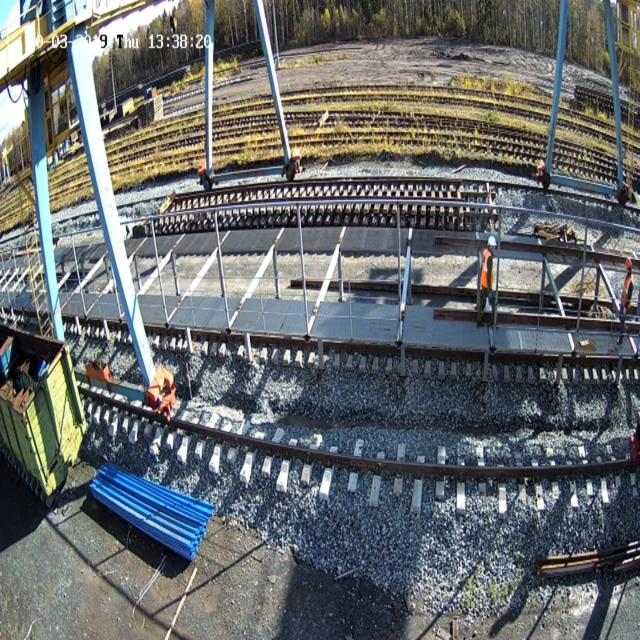Helmet: (487, 235, 497, 247), (625, 258, 632, 269)
Person: (476, 235, 497, 327), (616, 257, 634, 344)
